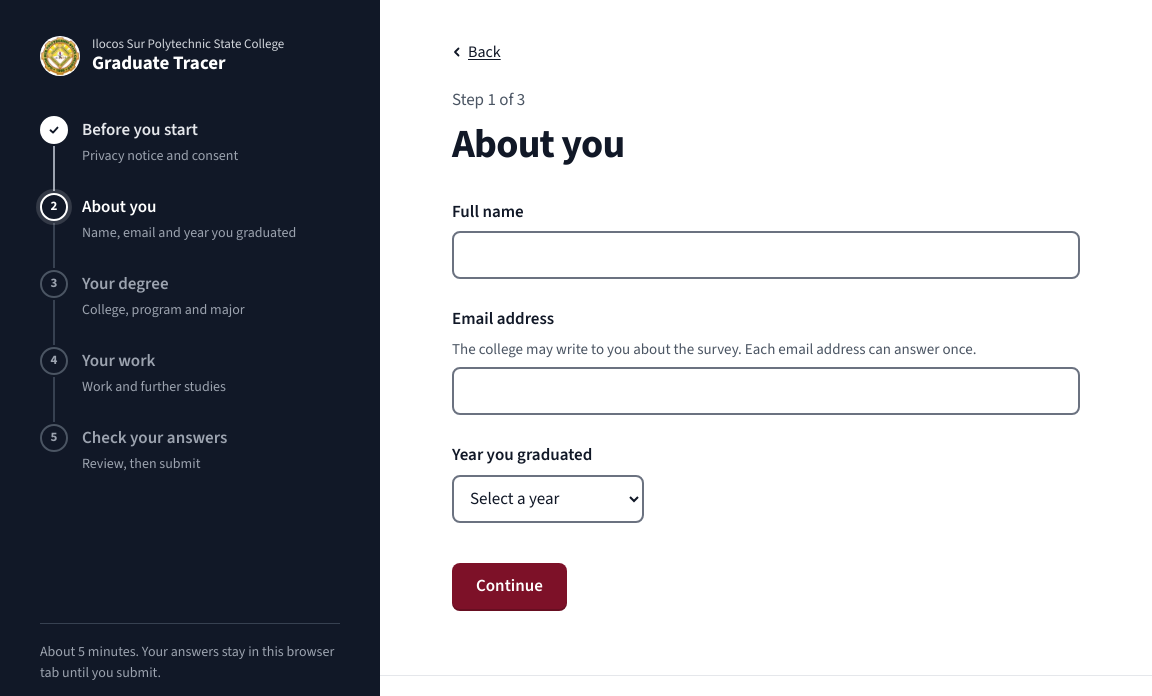
Scenario: graduate survey › explains each missing or wrong answer next to its field
Type "juan@ispsc" into the field labelled "Email address". click: (766, 391)
box: [452,367,1080,415]
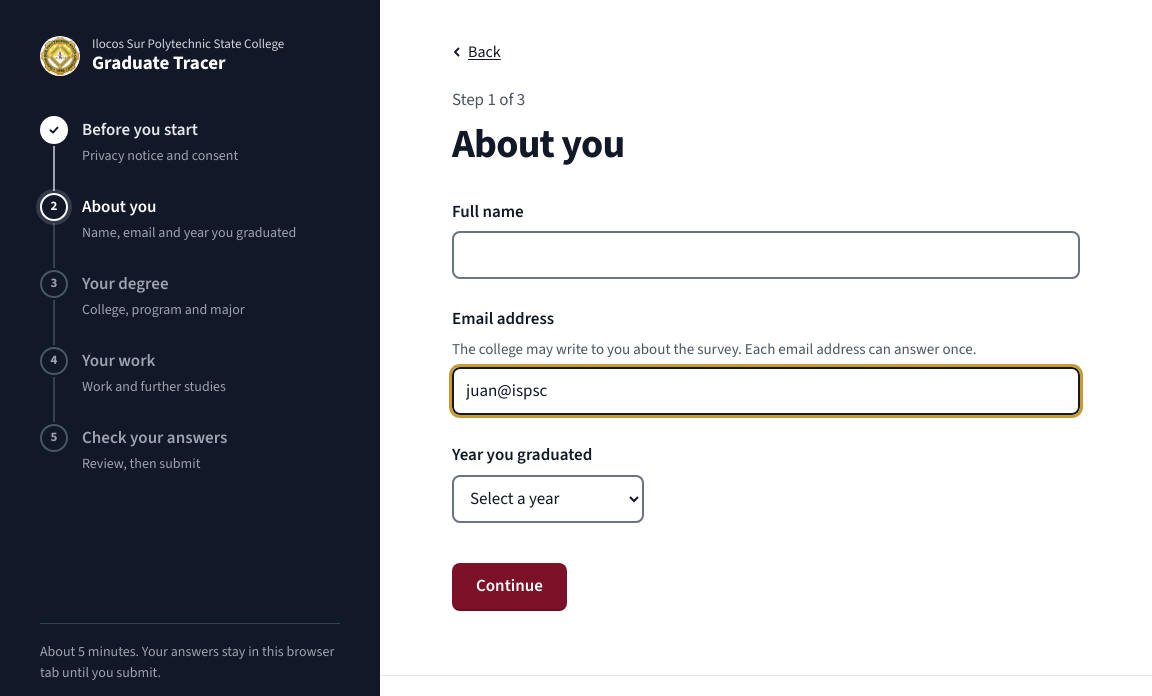
Click the button "Continue". click: (509, 586)
box: [452,562,567,610]
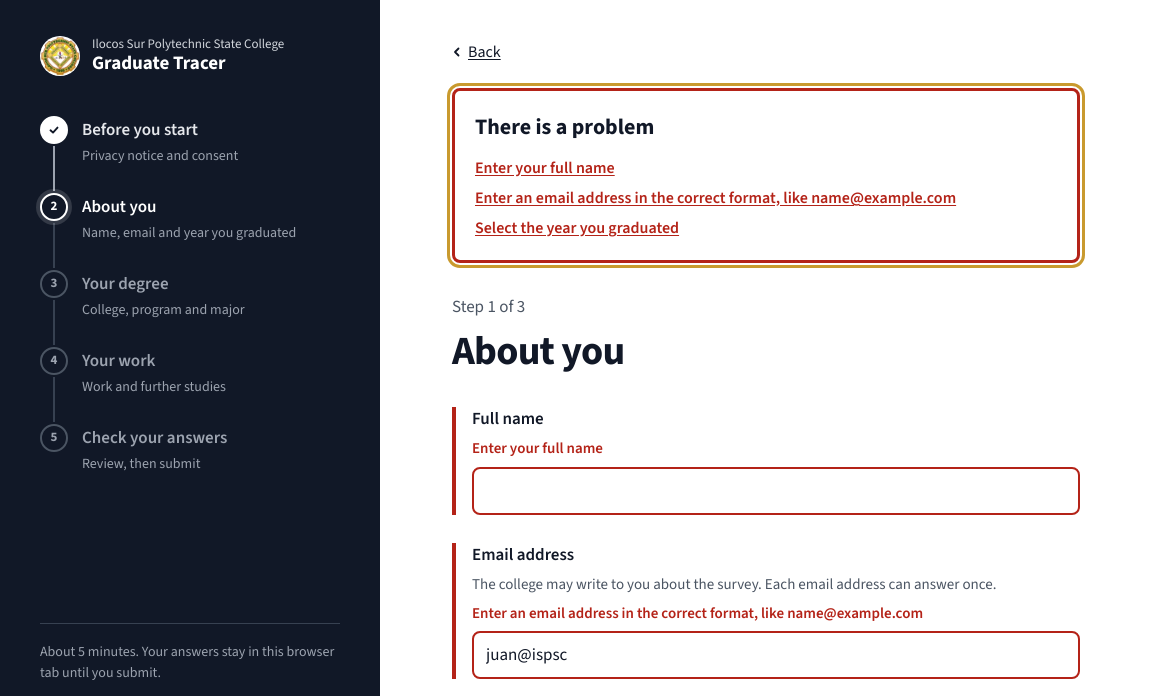
Check: the message shows "Enter your full name", box [475,157,615,179]
Check: the message shows "Enter an email address in the correct format, like name@example.com", box [475,187,956,209]
Check: the message shows "Select the year you graduated", box [475,217,679,239]
